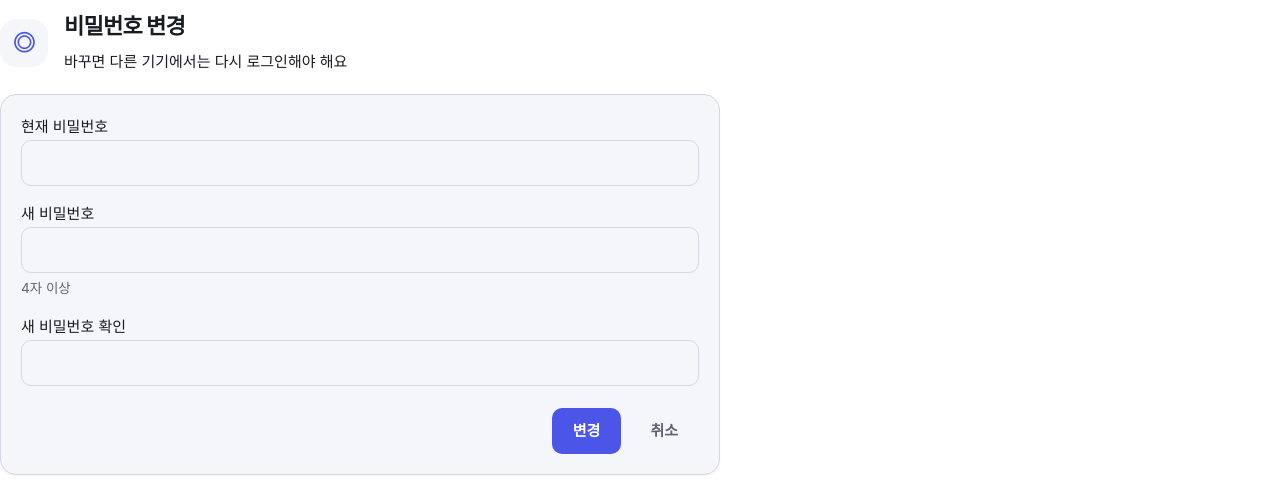
Scenario: 비밀번호 변경 — '틀린 것만 지운다' (설계/04 §4-1) › 서버가 403 PASSWORD_NOT_SUPPORTED를 주면 안내 화면으로 바뀐다 (플래그와 서버가 어긋난 경우)
Type "1234" into the password field labelled "현재 비밀번호" at (360, 163), box [21,140,699,186]
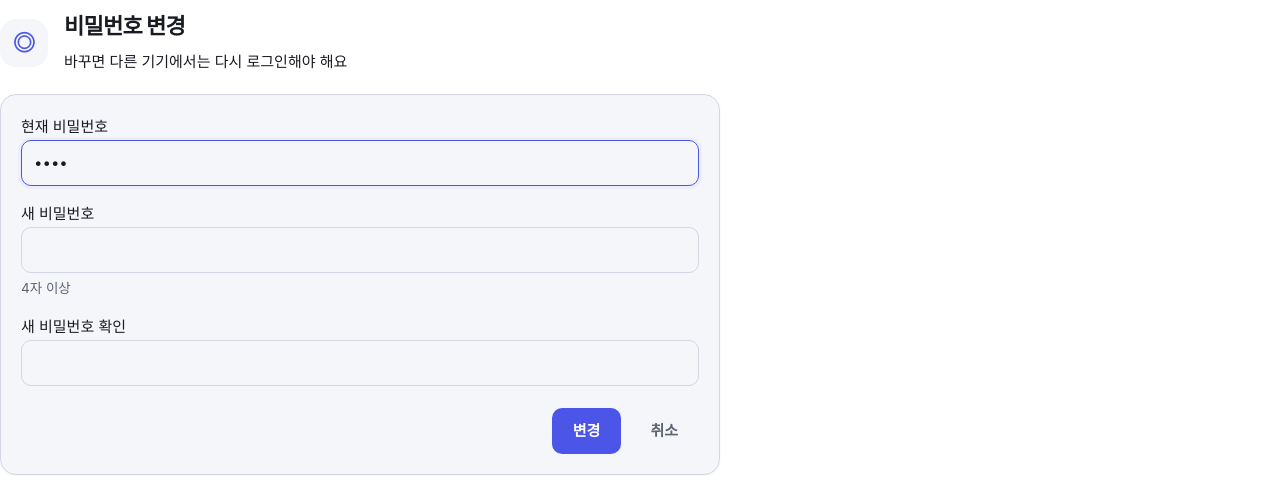
Type "newpass1234" into the password field labelled "새 비밀번호" at (360, 250), box [21,227,699,273]
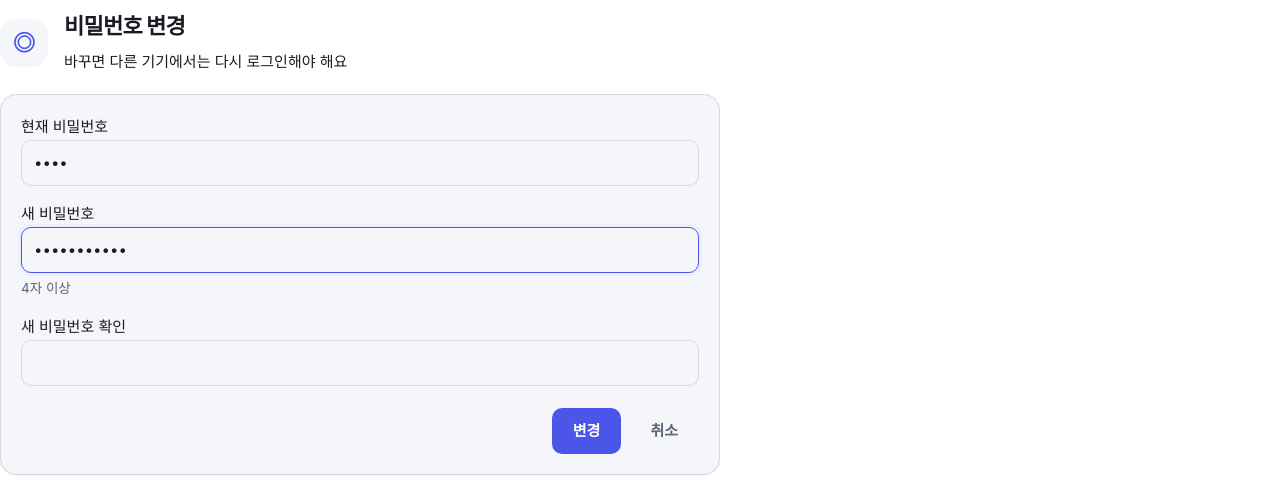
Type "newpass1234" into the password field labelled "새 비밀번호 확인" at (360, 363), box [21,340,699,386]
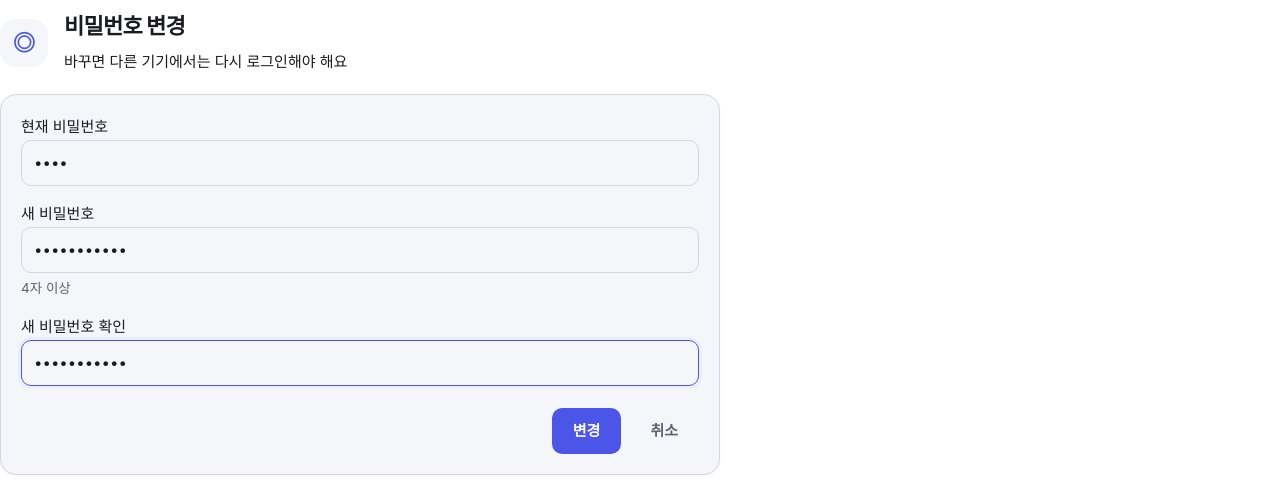
Click the button "변경" at (587, 431), box [552,408,621,454]
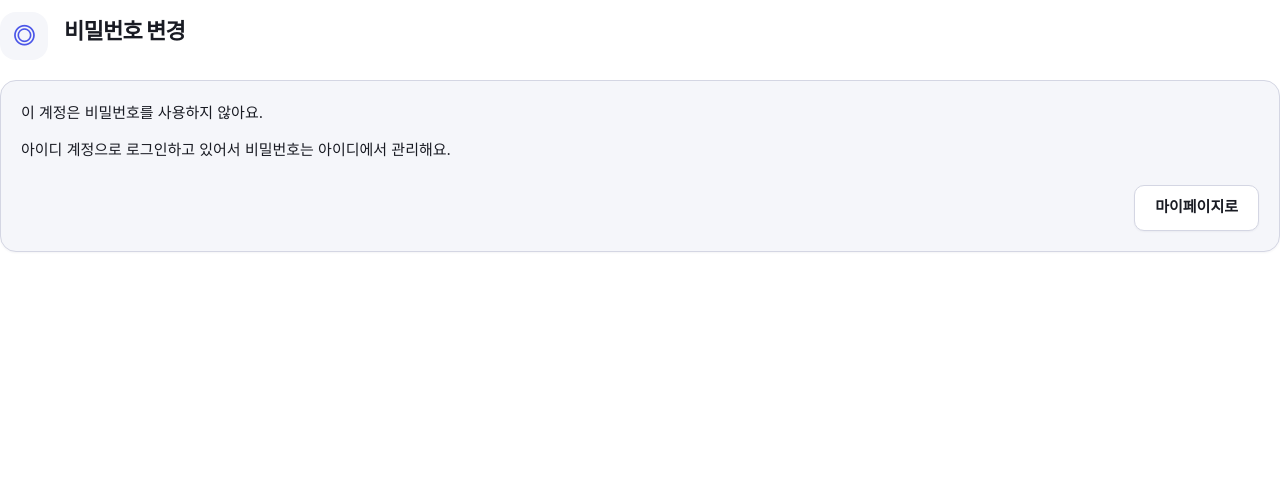
Expected: the link "마이페이지로" is shown, [1134,184,1259,230]
Expected: the label labelled "현재 비밀번호" is gone
